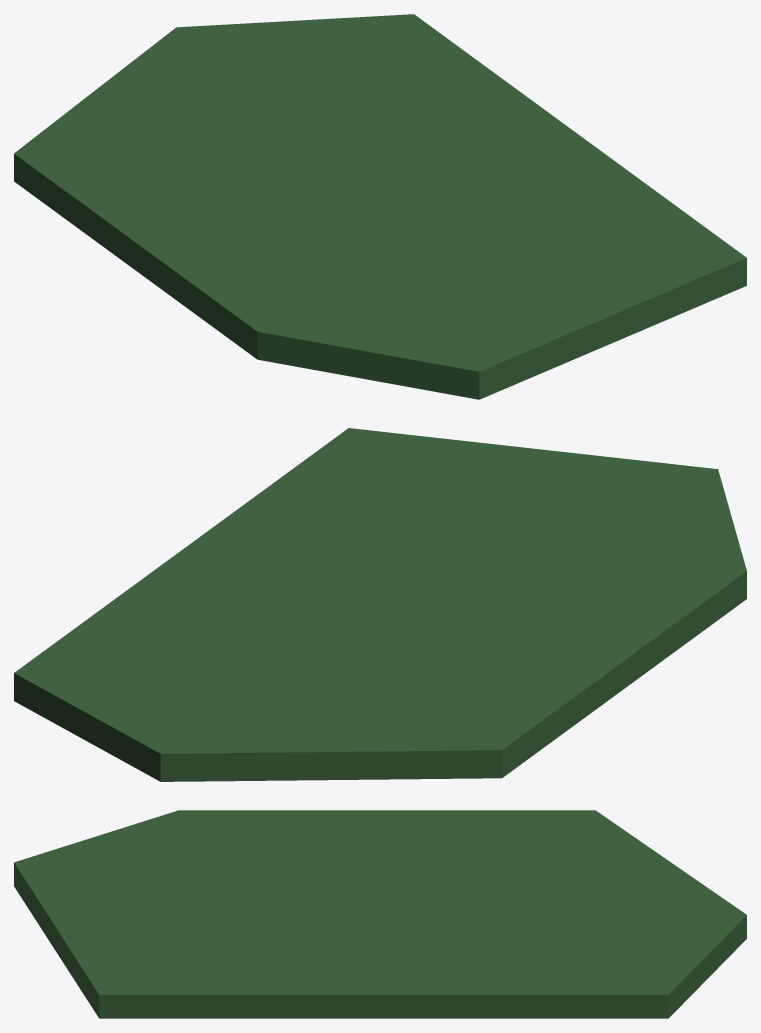
File: x_proval_00_86_1_rmstrd.fbx
3 views of the same model, one above another, from view 1: azimuth 30°, elevation 25°; view 2: azimuth 150°, elevation 25°; view 3: azimuth 270°, elevation 25° (orthographic). The views are drawn at different scales.
Visible parts, largest first — view 1: x_proval_00_86_1_rmstrd1; view 2: x_proval_00_86_1_rmstrd1; view 3: x_proval_00_86_1_rmstrd1.
Boxes of the visible parts, bbox=[...] form: x_proval_00_86_1_rmstrd1: bbox=[14, 14, 746, 399]; x_proval_00_86_1_rmstrd1: bbox=[14, 428, 746, 781]; x_proval_00_86_1_rmstrd1: bbox=[14, 810, 746, 1018].
Size of the model in its own units: 3.32 by 0.2 by 5.56.
